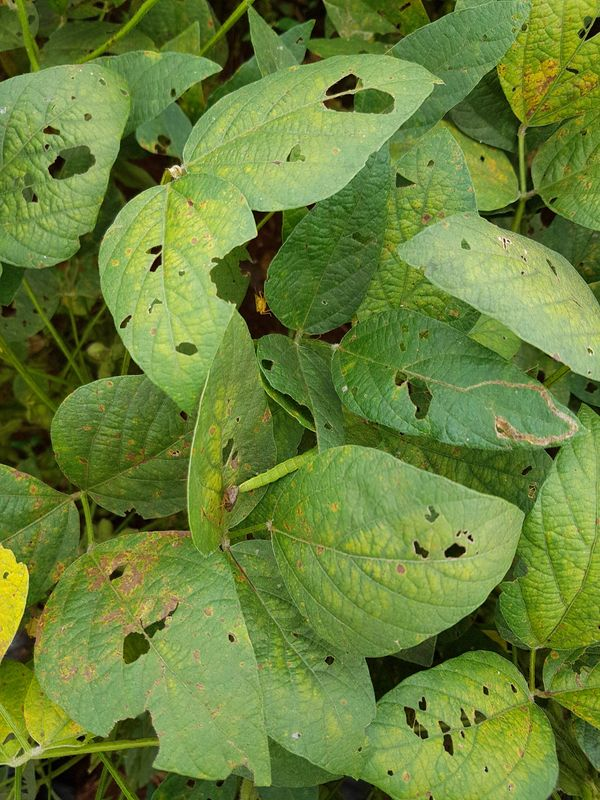Anticarsia_gemmatalis: (240, 433, 334, 504)
Euschistus_heros_adulto: (247, 286, 283, 317), (212, 480, 239, 517)
